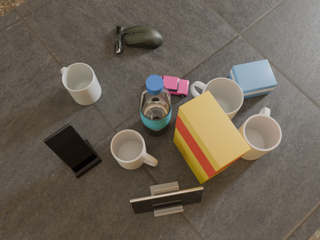bottle: (139, 75, 172, 136)
box: (174, 90, 251, 184), (229, 60, 277, 98)
cup: (238, 107, 281, 160), (190, 78, 244, 120), (111, 130, 158, 169), (61, 63, 101, 105)
mouse: (114, 25, 163, 54)
phone: (44, 123, 97, 172), (130, 187, 203, 214)
toy_car: (160, 76, 189, 97)
